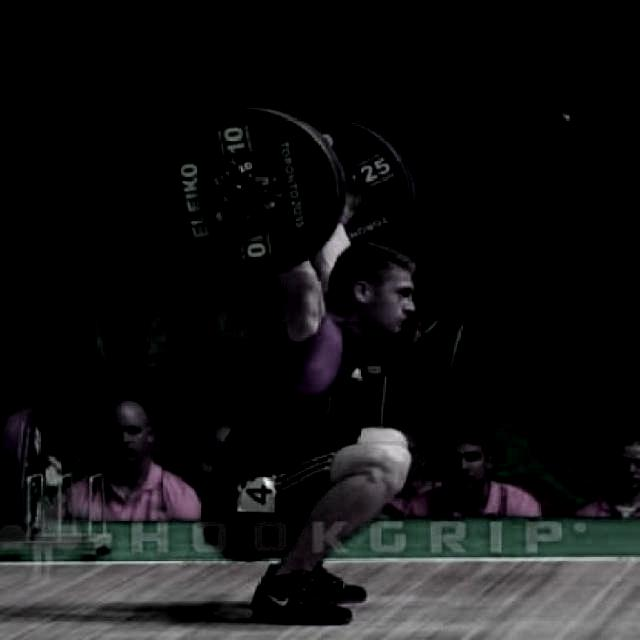barbell: (148, 103, 342, 283)
